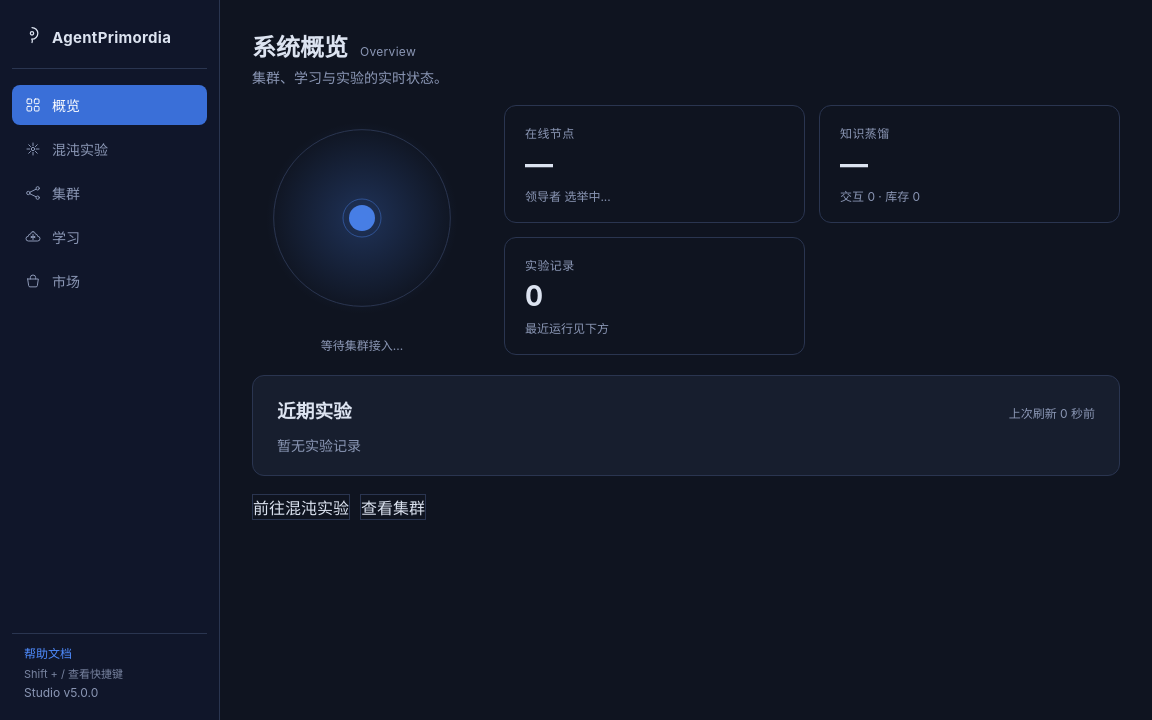
Scenario: Studio App 壳层 › 点击学习导航切换到 Learning Monitor
Click the link "学习".
click(52, 238)  # box [25,229,80,246]
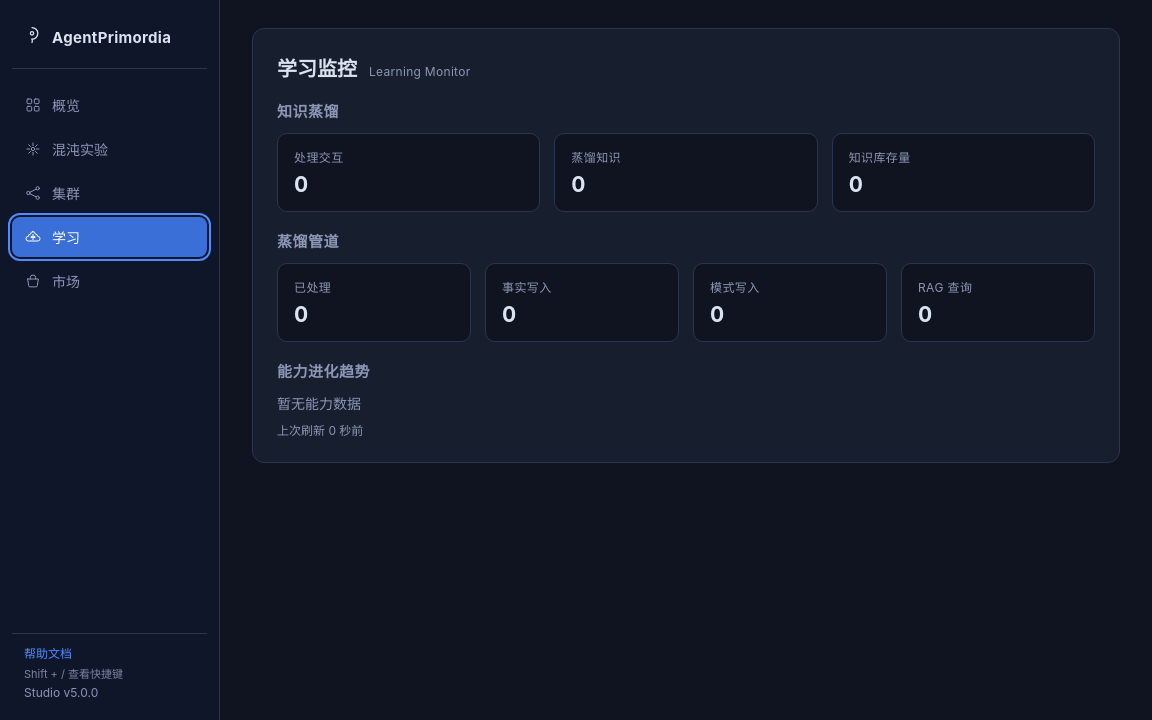
Check: the heading "学习监控" is shown, box [277,53,357,82]
